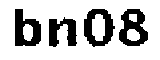0: (82, 5, 114, 50)
8: (118, 8, 151, 54)
b: (12, 8, 43, 52)
n: (44, 16, 80, 52)
